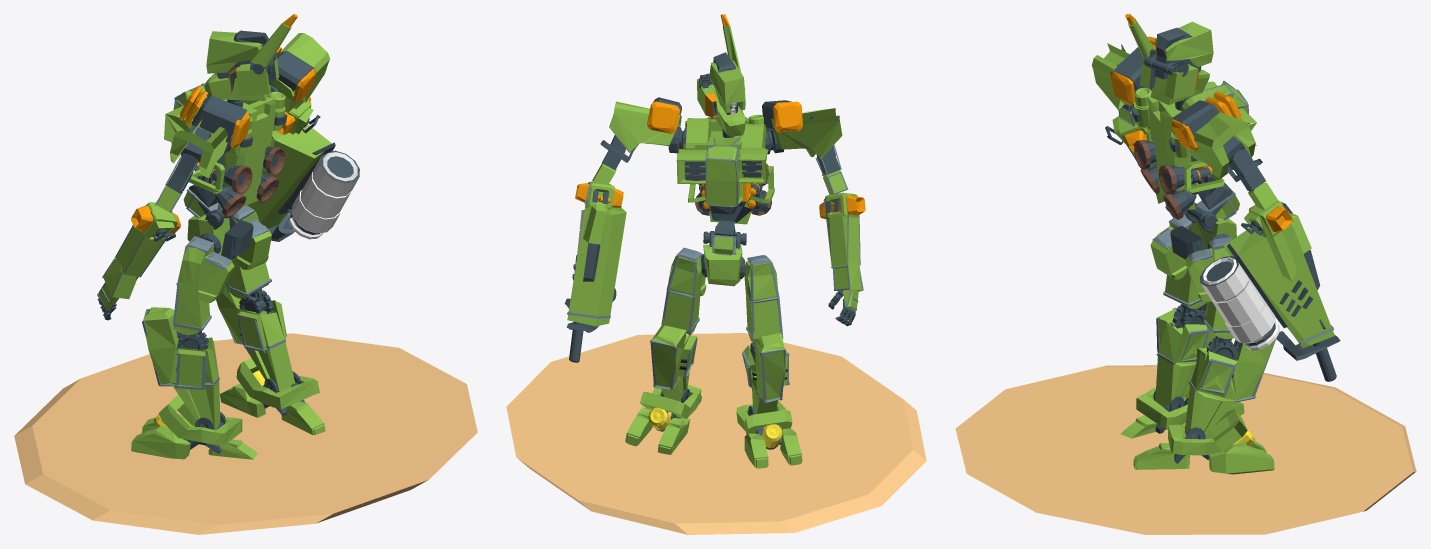
File: Sentinel Mech.glb
The picture shows the model from 3 angles, left to right: view 1: azimuth 30°, elevation 25°; view 2: azimuth 150°, elevation 25°; view 3: azimuth 270°, elevation 25°; orthographic projection. The views are drawn at different scales.
Parts seen in each view (by area): view 1: group434636807, group2089809558; view 2: group2089809558, group434636807; view 3: group434636807, group2089809558.
Boxes of the visible parts, x1,y1,x2,y2 form: group434636807: [97, 14, 359, 459]; group2089809558: [14, 333, 477, 534]; group2089809558: [506, 333, 926, 534]; group434636807: [564, 14, 865, 468]; group434636807: [1091, 14, 1340, 474]; group2089809558: [955, 365, 1416, 534].
Bounding box in the file's own units: 4.59 × 4.93 × 4.44.
